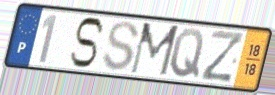1: (38, 13, 59, 65)
M: (127, 21, 182, 79)
Q: (168, 26, 206, 80)
S: (100, 19, 141, 73), (68, 16, 106, 70)
Z: (198, 28, 246, 84)
